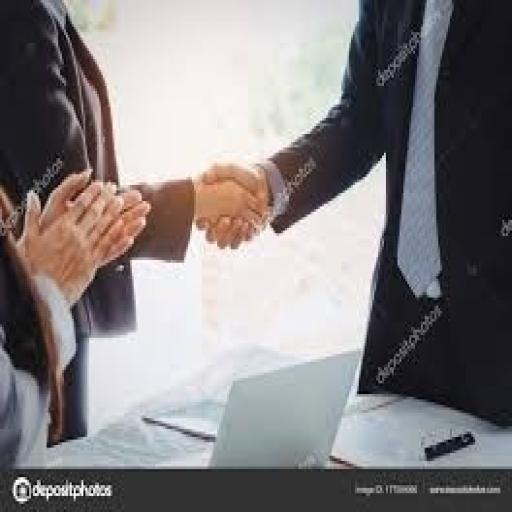clapping: (0, 115, 209, 483)
